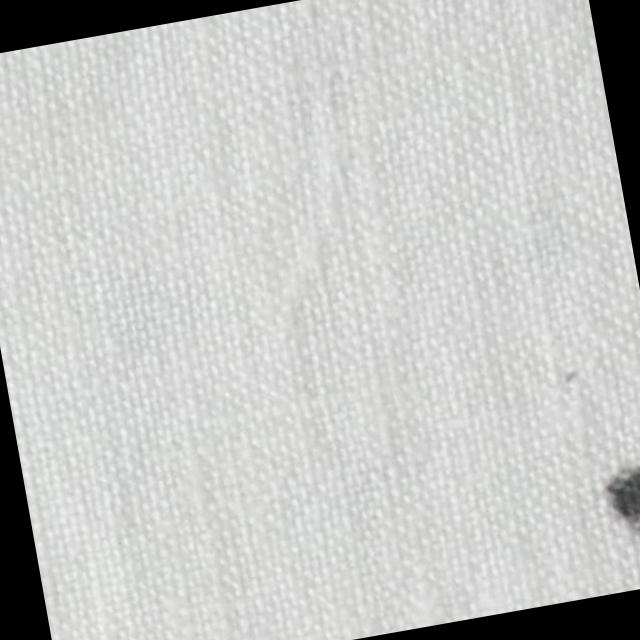Stain: (591, 451, 640, 593)
